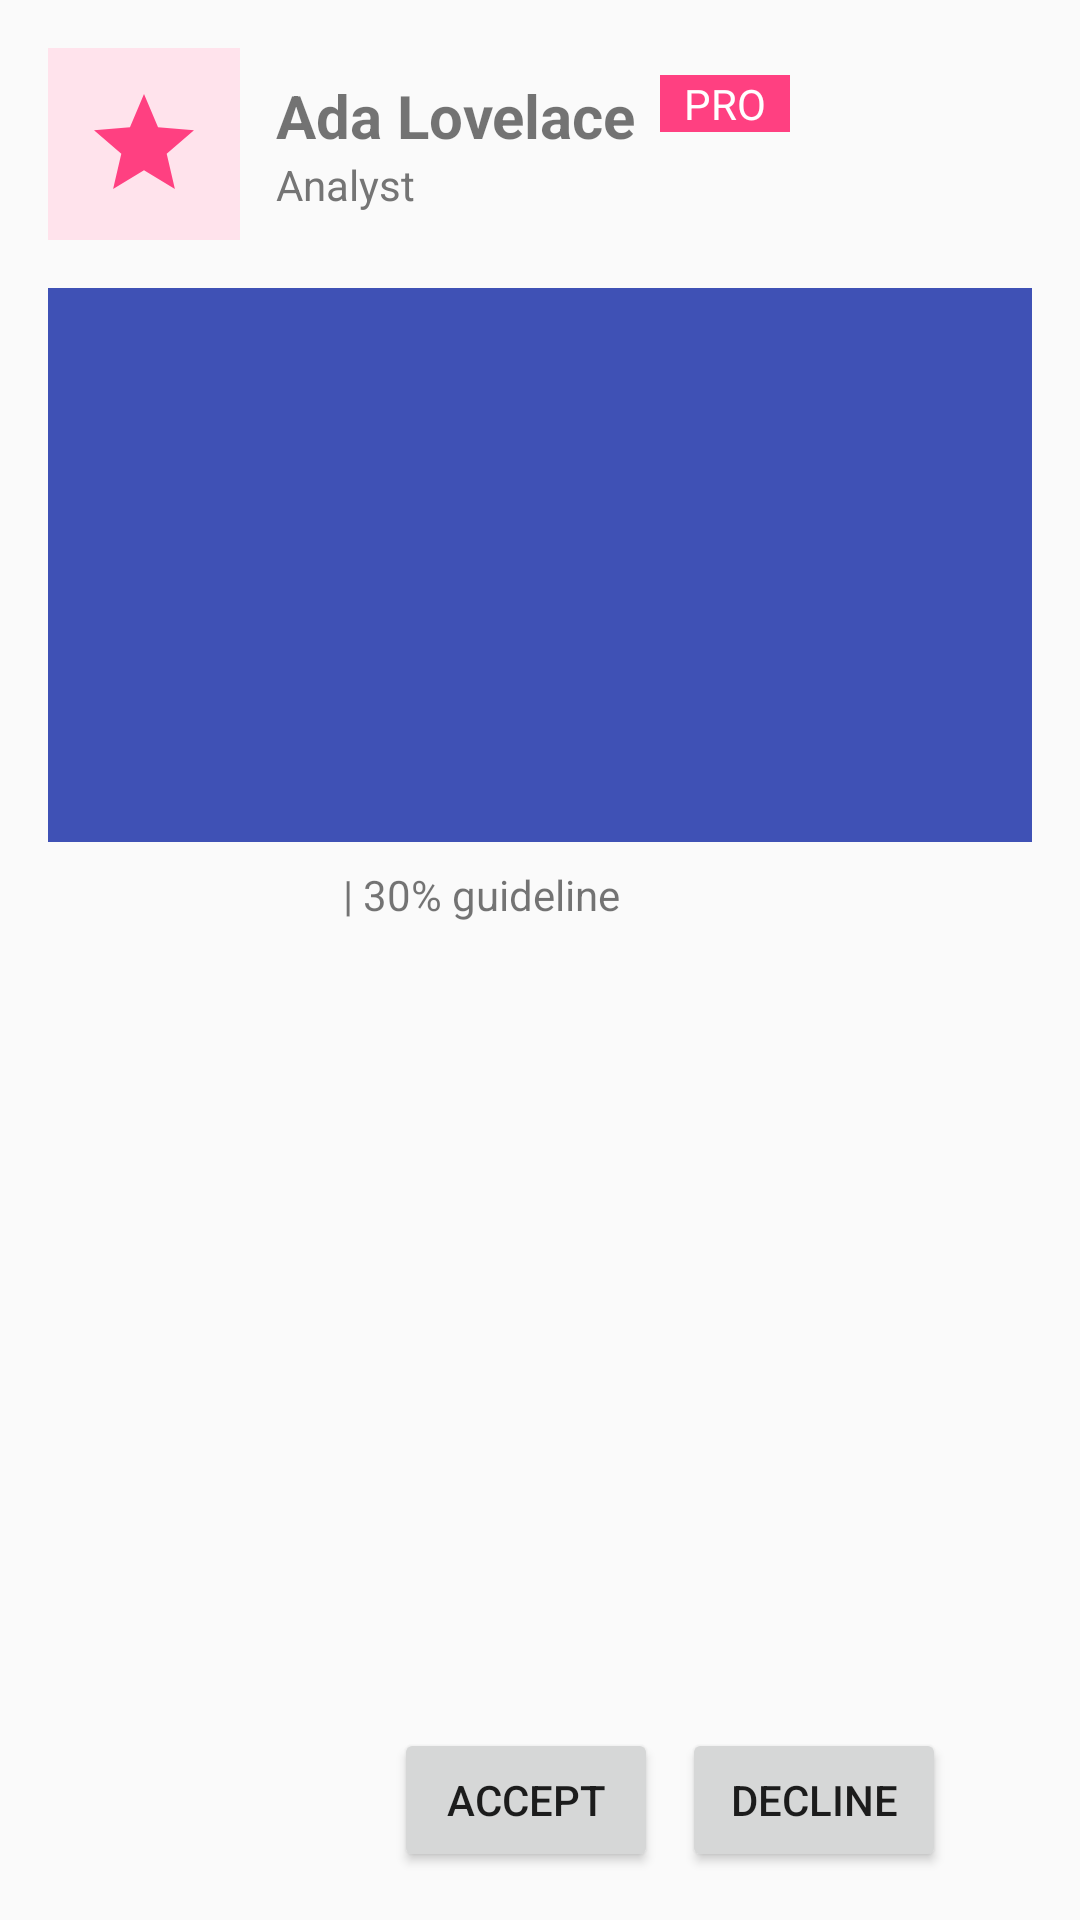

Screen size 1080 x 1920. Icon name, then its center in pixels as (x,y):
star: (144,144)
